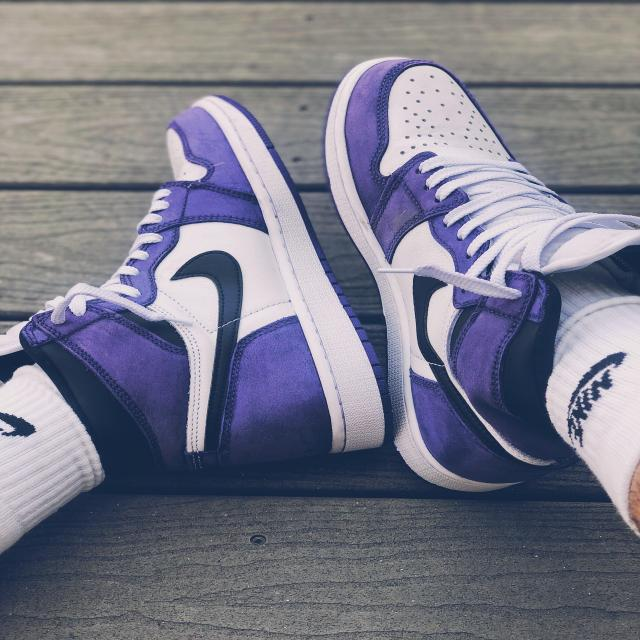shoe: (5, 44, 339, 497), (330, 3, 630, 503)
